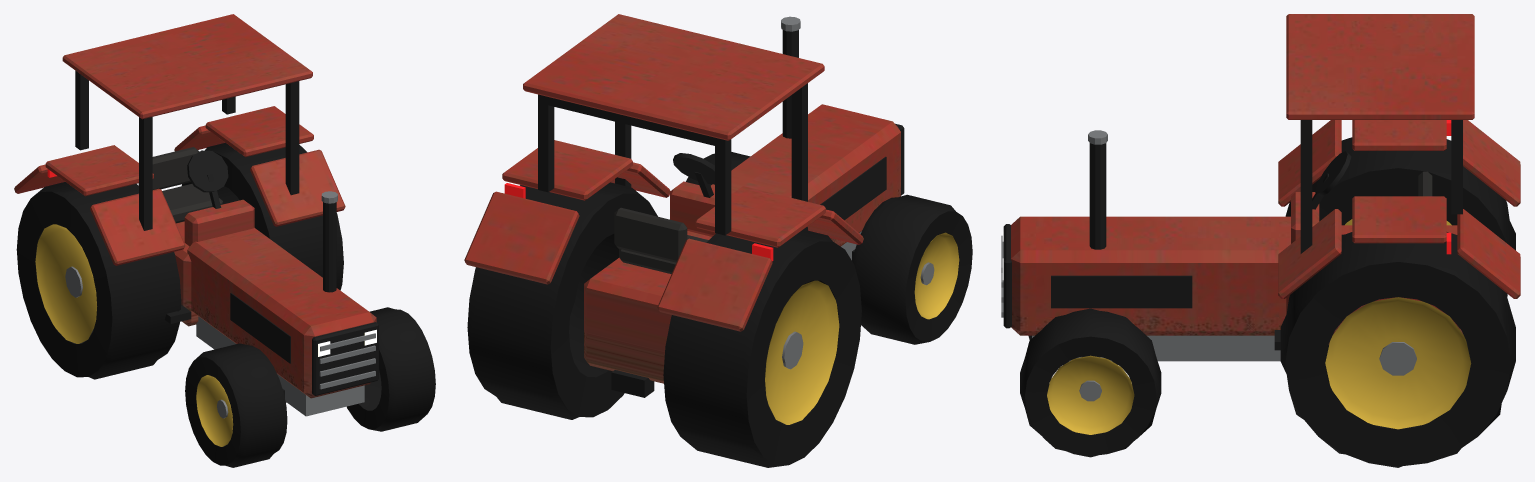
The model's file is tractor.glb.
3 renders of one model, left to right at view 1: azimuth 30°, elevation 25°; view 2: azimuth 150°, elevation 25°; view 3: azimuth 270°, elevation 25°, orthographic. The views are drawn at different scales.
Visible parts, largest first — view 1: body, wheel-back-right, wheel-front-right, wheel-front-left, wheel-back-right.1, wheel-back-left, wheel-front-right.1; view 2: body, wheel-back-right, wheel-back-left, wheel-front-right, wheel-back-right.1, wheel-front-right.1; view 3: body, wheel-back-left, wheel-back-left.1, wheel-front-left, wheel-back-right, wheel-front-left.1.
Part boxes in pixels (<box>): body: <box>14,14,378,416</box>; wheel-back-right: <box>16,182,181,379</box>; wheel-front-right: <box>185,343,287,467</box>; wheel-front-left: <box>347,307,435,431</box>; wheel-back-right.1: <box>35,224,97,343</box>; wheel-back-left: <box>181,142,343,290</box>; wheel-front-right.1: <box>196,375,233,446</box>; body: <box>464,14,904,397</box>; wheel-back-right: <box>663,229,861,467</box>; wheel-back-left: <box>467,182,657,419</box>; wheel-front-right: <box>852,194,972,344</box>; wheel-back-right.1: <box>765,280,839,424</box>; wheel-front-right.1: <box>914,232,959,319</box>; body: <box>1001,14,1520,361</box>; wheel-back-left: <box>1280,232,1515,467</box>; wheel-back-left.1: <box>1325,297,1471,429</box>; wheel-front-left: <box>1020,308,1161,457</box>; wheel-back-right: <box>1285,137,1515,296</box>; wheel-front-left.1: <box>1047,355,1134,434</box>.
Size of the model in its own units: 1.34 by 1.6 by 2.2.
8 materials, 1 textured.
